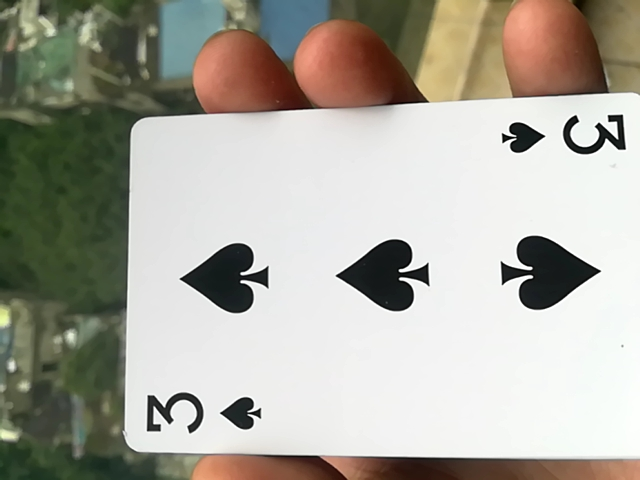ht 3: (113, 112, 637, 476)
